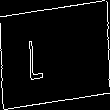L_N: (47, 28, 63, 82)
